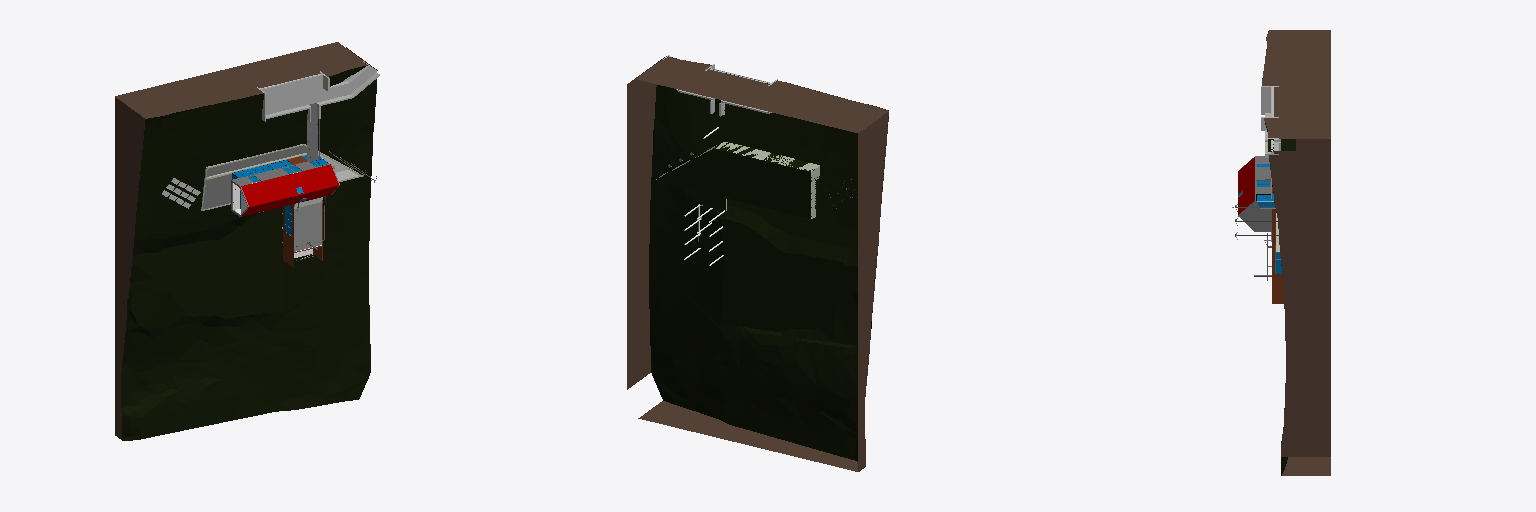
3 views of the same model, side by side, from view 1: azimuth 30°, elevation 25°; view 2: azimuth 150°, elevation 25°; view 3: azimuth 270°, elevation 25° (orthographic).
Parts seen in each view (by area): view 1: Topography|no family|Generic|Surface[411452], Roofs|Basic Roof|Metal|SG Metal Panels roof[243274], Structural Foundations|Foundation Slab|Concrete|150mm Foundation, Topography|no family|Generic|Surface[490318], Roofs|Basic Roof|Asphalt|Warm Roof - Timber[724430], Floors|Floor|Concrete|Insitu Concrete 225mm[647908], Floors|Floor|Concrete|Concrete-Domestic 425mm[495352], Floors|Floor|Concrete|Insitu Concrete 225mm[764691]; view 2: Topography|no family|Generic|Surface[411452], Topography|no family|Generic|Surface[523063], Topography|no family|Generic|Surface[490318]; view 3: Topography|no family|Generic|Surface[411452], Topography|no family|Generic|Surface[490318], Roofs|Basic Roof|Metal|SG Metal Panels roof[243274], Walls|Basic Wall|Concrete|SIP 202mm Wall - conc clad[198694], Walls|Basic Wall|Wood|Wall - Timber Clad[427092].
Part boxes in pixels (left/top/right/bottom): Topography|no family|Generic|Surface[411452]: left=115, top=42, right=377, bottom=440; Roofs|Basic Roof|Metal|SG Metal Panels roof[243274]: left=241, top=164, right=338, bottom=216; Structural Foundations|Foundation Slab|Concrete|150mm Foundation: left=261, top=67, right=376, bottom=114; Topography|no family|Generic|Surface[490318]: left=230, top=42, right=370, bottom=87; Roofs|Basic Roof|Asphalt|Warm Roof - Timber[724430]: left=294, top=202, right=321, bottom=251; Floors|Floor|Concrete|Insitu Concrete 225mm[647908]: left=207, top=145, right=306, bottom=176; Floors|Floor|Concrete|Concrete-Domestic 425mm[495352]: left=203, top=174, right=231, bottom=209; Floors|Floor|Concrete|Insitu Concrete 225mm[764691]: left=307, top=103, right=317, bottom=161; Topography|no family|Generic|Surface[411452]: left=627, top=56, right=888, bottom=471; Topography|no family|Generic|Surface[523063]: left=655, top=141, right=818, bottom=218; Topography|no family|Generic|Surface[490318]: left=627, top=60, right=769, bottom=115; Topography|no family|Generic|Surface[411452]: left=1262, top=30, right=1330, bottom=475; Topography|no family|Generic|Surface[490318]: left=1268, top=86, right=1330, bottom=154; Roofs|Basic Roof|Metal|SG Metal Panels roof[243274]: left=1238, top=157, right=1254, bottom=214; Walls|Basic Wall|Concrete|SIP 202mm Wall - conc clad[198694]: left=1238, top=201, right=1271, bottom=231; Walls|Basic Wall|Wood|Wall - Timber Clad[427092]: left=1272, top=209, right=1283, bottom=303.
Size of the model in its own units: 165 by 231 by 62.86.